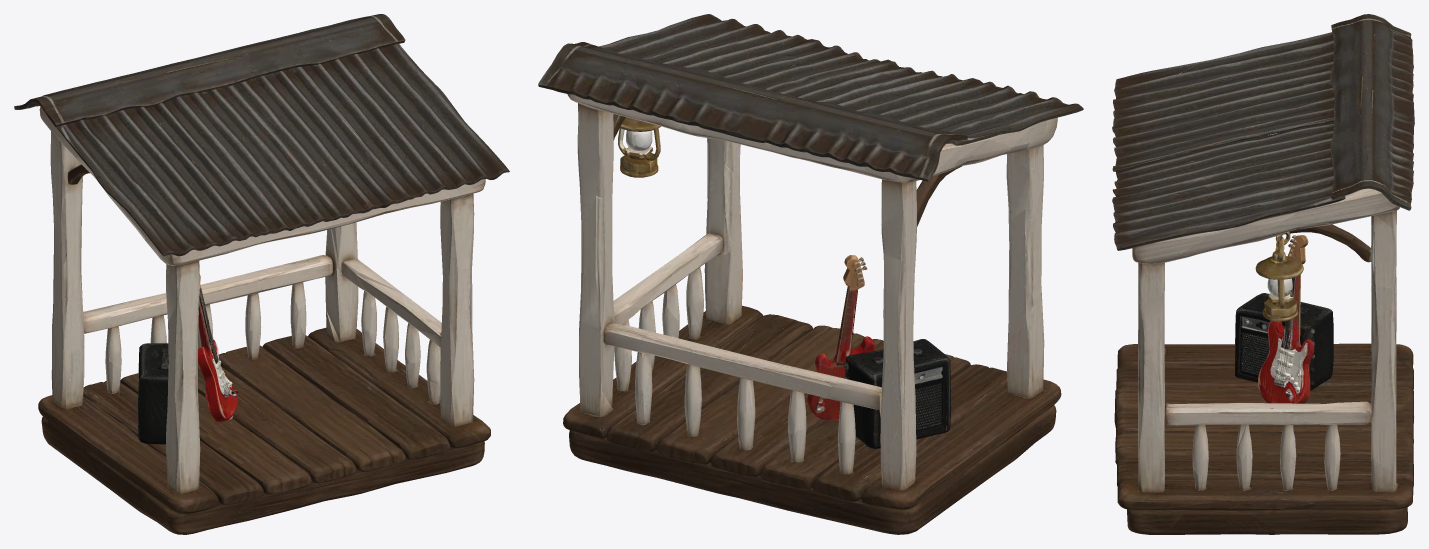
File: porch.glb
The picture shows the model from 3 angles, left to right: view 1: azimuth 30°, elevation 25°; view 2: azimuth 150°, elevation 25°; view 3: azimuth 270°, elevation 25°; orthographic projection. The views are drawn at different scales.
Parts seen in each view (by area): view 1: Mesh_0; view 2: Mesh_0; view 3: Mesh_0.
Boxes of the visible parts, <box> form: Mesh_0: <box>14,14,509,534</box>; Mesh_0: <box>538,14,1083,534</box>; Mesh_0: <box>1112,14,1414,534</box>.
Size of the model in its own units: 1.9 by 1.83 by 1.39.
1 material, 1 textured.
